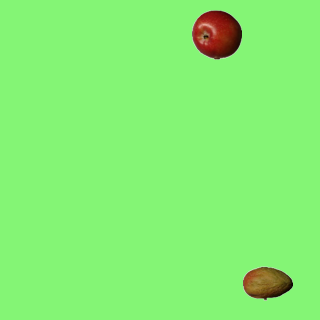Apple Braeburn: (191, 9, 241, 59)
Papaya: (242, 258, 292, 308)
